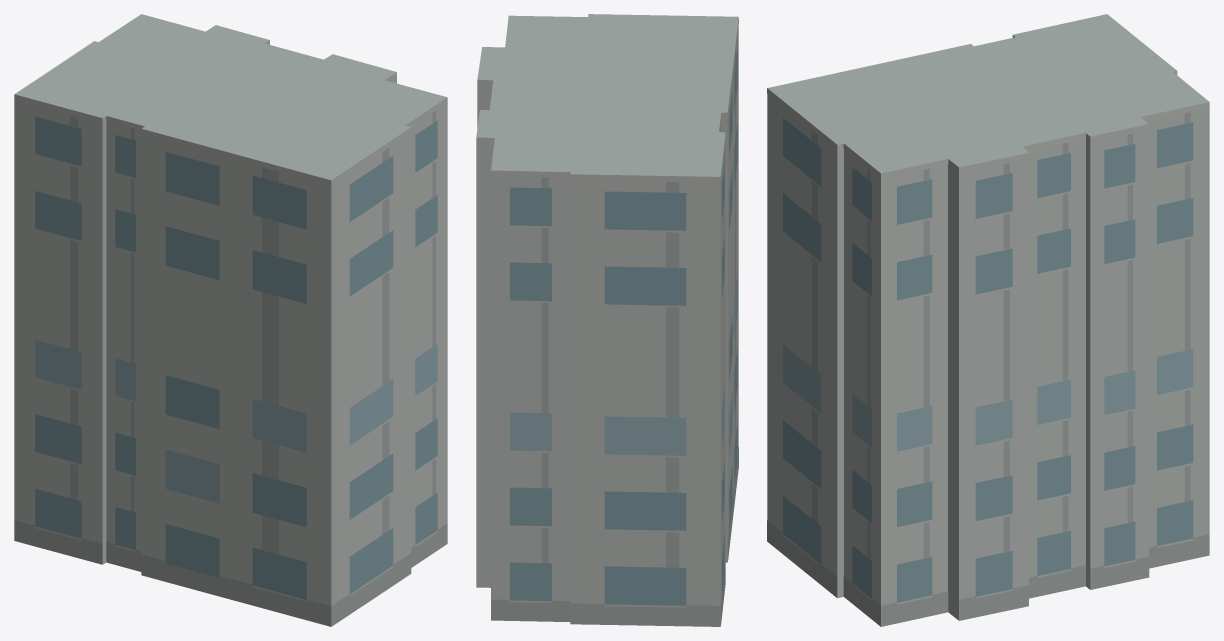
File: survey-upis-32806618.glb
3 views of the same model, side by side, from view 1: azimuth 30°, elevation 25°; view 2: azimuth 150°, elevation 25°; view 3: azimuth 270°, elevation 25° (orthographic).
Parts seen in each view (by area): view 1: survey-upis-32806618.tmp; view 2: survey-upis-32806618.tmp; view 3: survey-upis-32806618.tmp.
Part boxes in pixels (box(x1,y1,x2,y2)): survey-upis-32806618.tmp: box(14, 14, 447, 626); survey-upis-32806618.tmp: box(476, 14, 738, 626); survey-upis-32806618.tmp: box(767, 14, 1209, 626).
Bounding box in the file's own units: 14.08 × 18.65 × 16.5.
